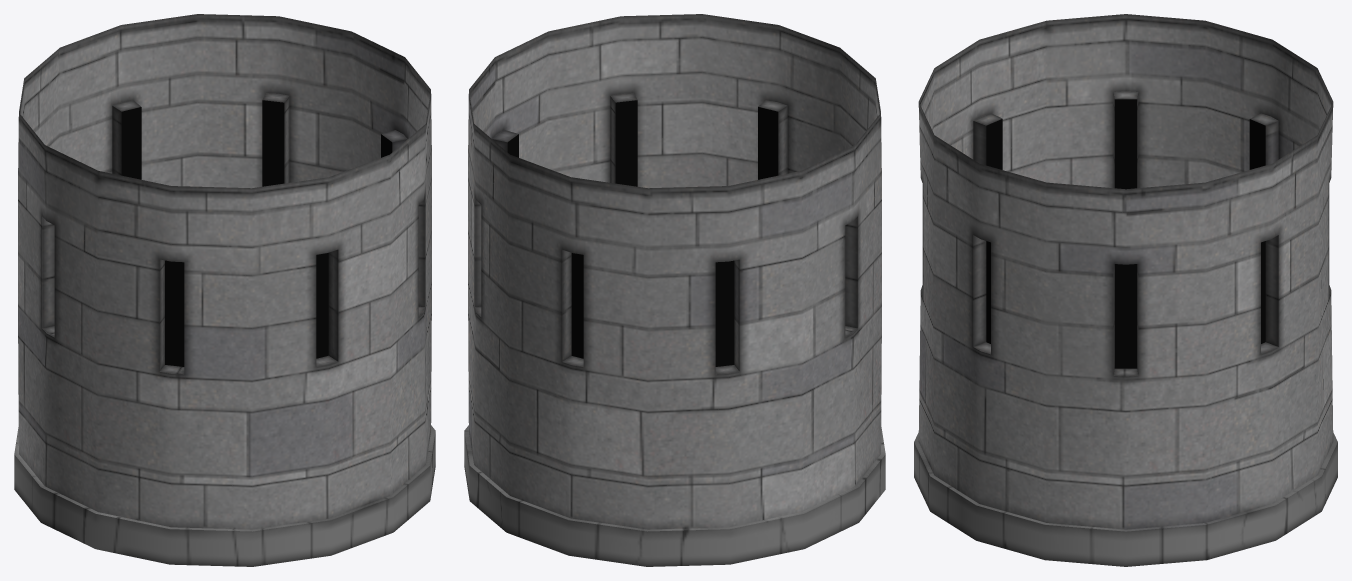
Rendered from sb_obj_outdoor001_Castle01_CircleWall01.fbx.
3 views of the same model, side by side, from view 1: azimuth 30°, elevation 25°; view 2: azimuth 150°, elevation 25°; view 3: azimuth 270°, elevation 25° (orthographic).
Parts seen in each view (by area): view 1: sb_obj_outdoor001_Castle01_CircleWall01; view 2: sb_obj_outdoor001_Castle01_CircleWall01; view 3: sb_obj_outdoor001_Castle01_CircleWall01.
Boxes of the visible parts, <box> form: sb_obj_outdoor001_Castle01_CircleWall01: <box>14,14,435,566</box>; sb_obj_outdoor001_Castle01_CircleWall01: <box>464,14,885,566</box>; sb_obj_outdoor001_Castle01_CircleWall01: <box>914,14,1337,566</box>.
Size of the model in its own units: 3.07 by 3 by 3.07.
